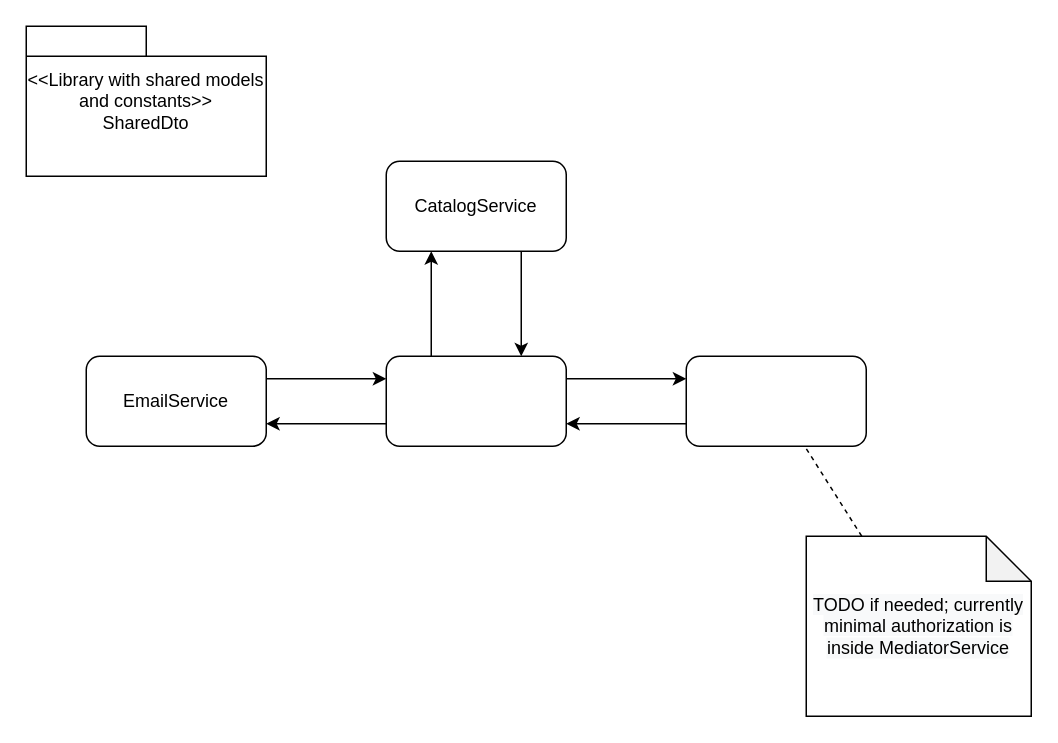
The diagram is 1058 pixels wide and 743 high, and some of its shapes have lost their labels. Each missing label, with the centre of its shape:
AuthorizationService: (x=775, y=400)
MediatorService: (x=475, y=400)
